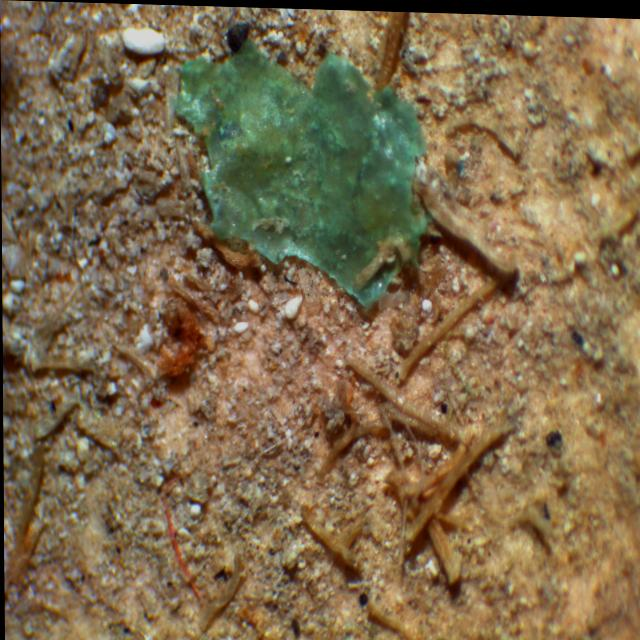microplastic: (174, 37, 427, 307)
